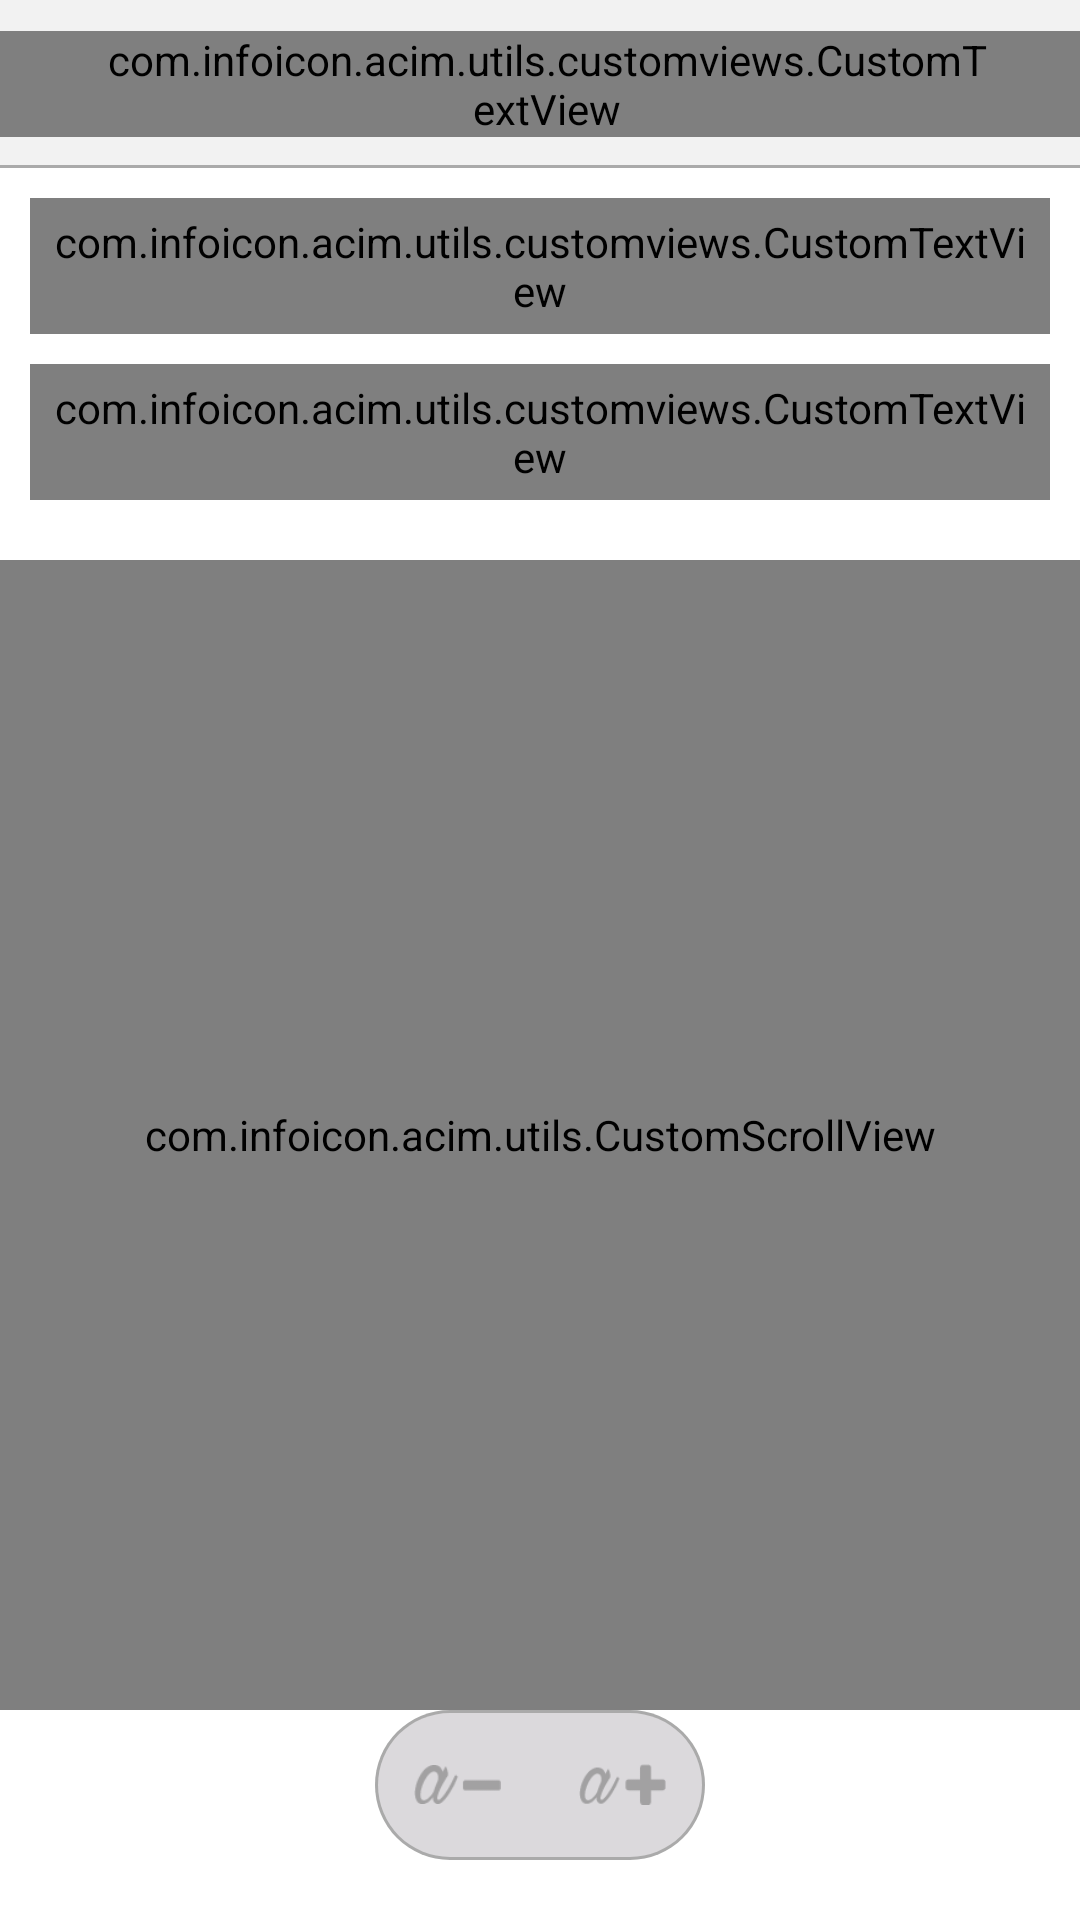

Named icons in this screenshot (1080x1920) and their centers, (x,y):
decrease: (458,1784)
increase: (623,1785)
